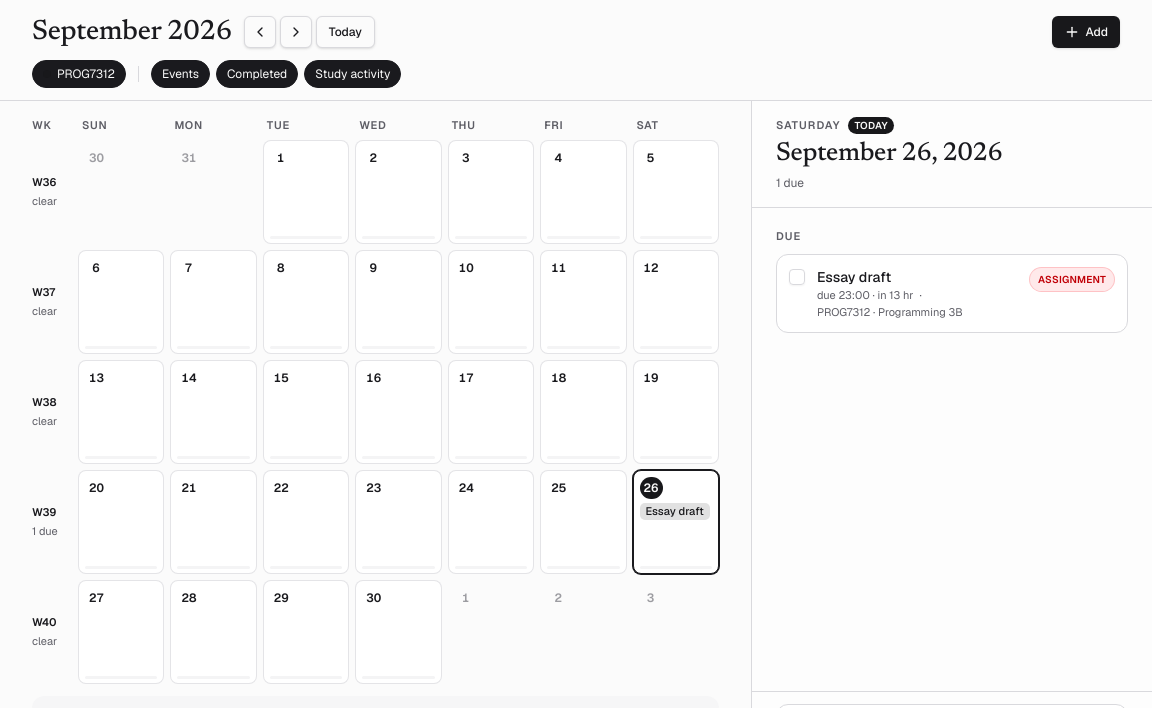
Test case: CalendarView deadlines › hides a module's deadlines when its filter is switched off
Step 1. Click the button "PROG7312" → (79, 74), box [32,60,126,88]
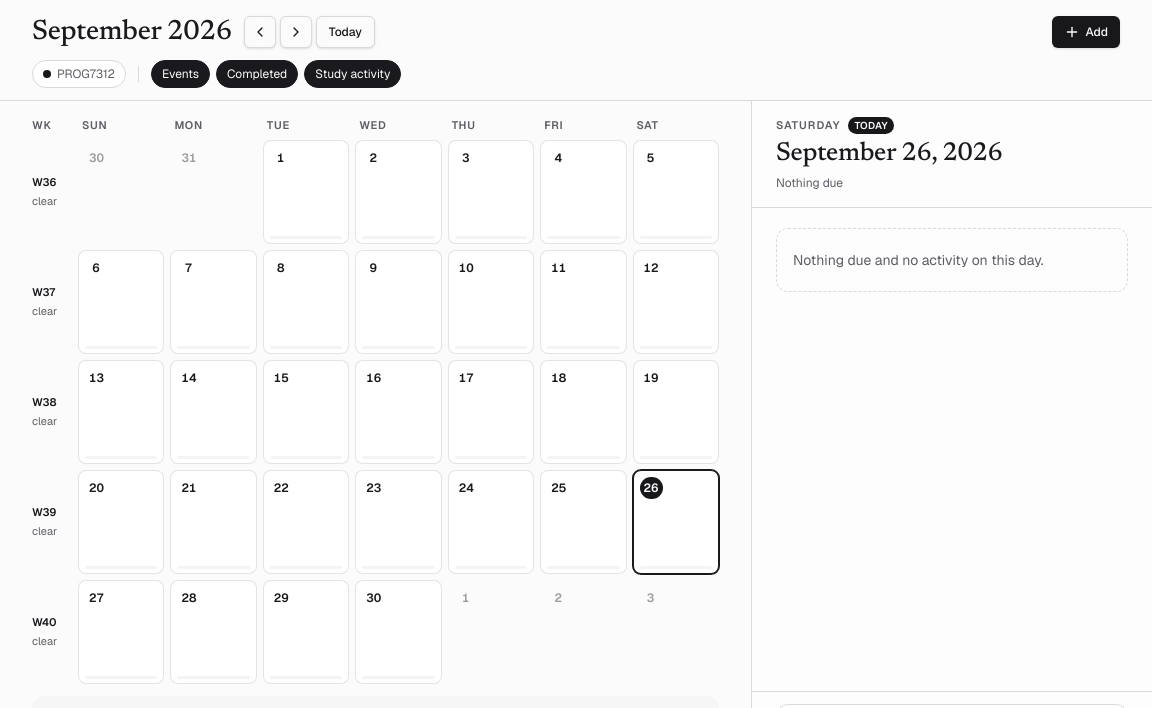
expect the text "Essay draft" is gone: met
